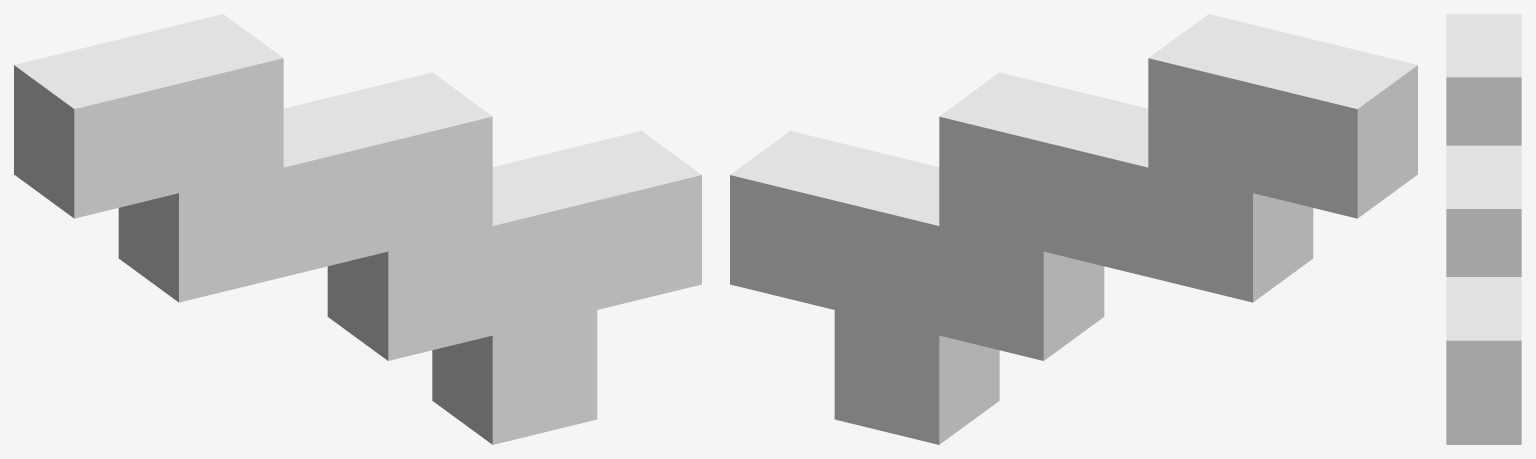
File: Lightning-Small-White.vox.obj
3 renders of one model, left to right at view 1: azimuth 30°, elevation 25°; view 2: azimuth 150°, elevation 25°; view 3: azimuth 270°, elevation 25°, orthographic. The views are drawn at different scales.
Bounding box in the file's own units: 0.6 × 0.4 × 0.1.
1 material, 1 textured.
